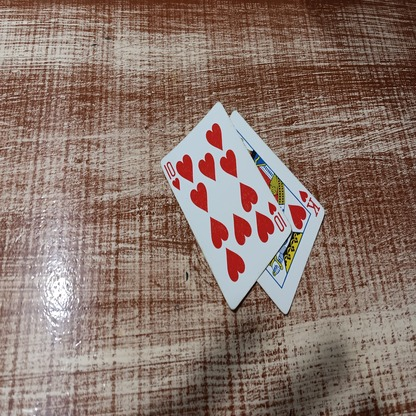10h: (264, 200, 289, 232), (163, 159, 181, 190)
Kh: (297, 189, 322, 218)
